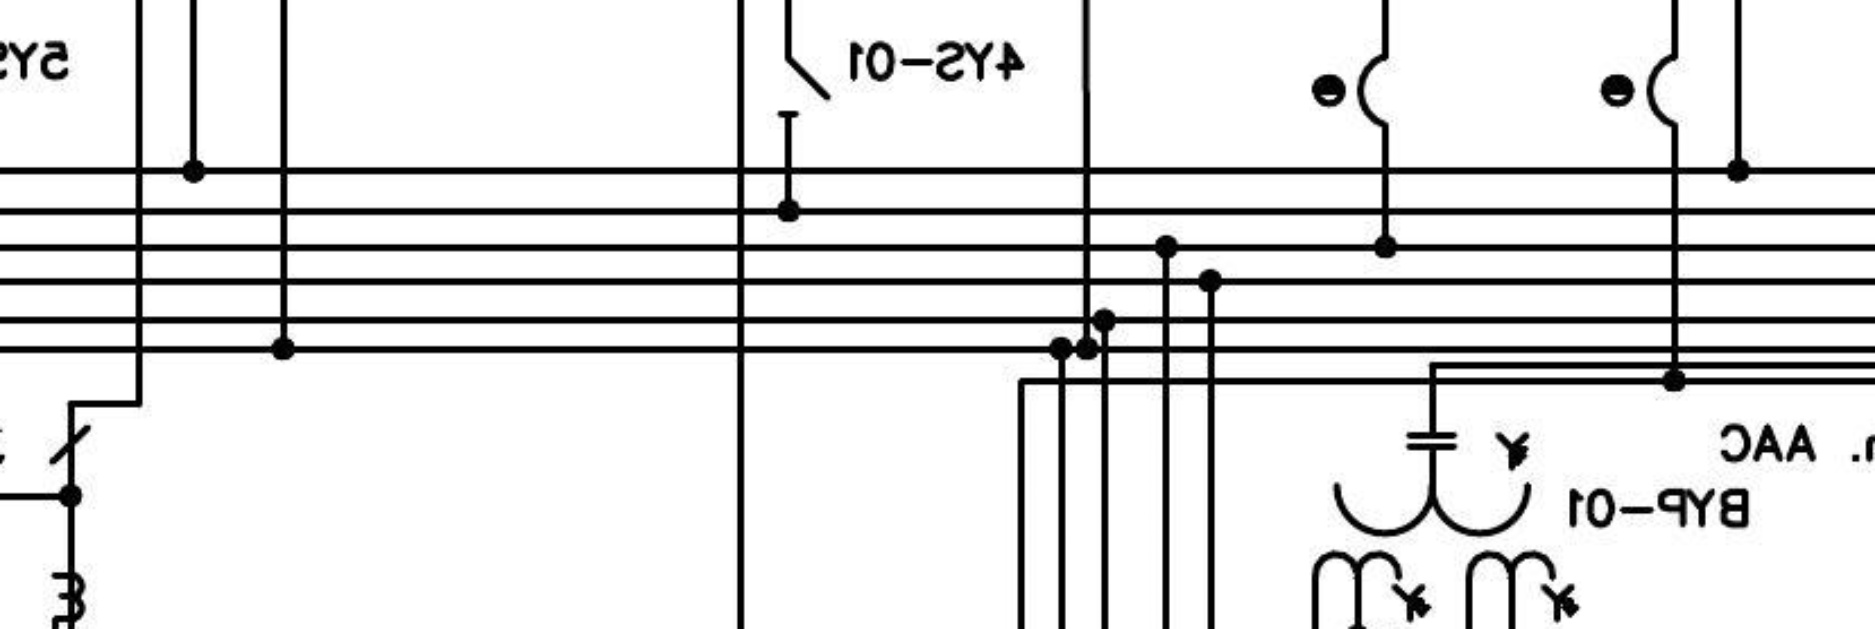115_cvt_3p: (1311, 430, 1582, 624)
115_ds: (775, 55, 832, 117)
